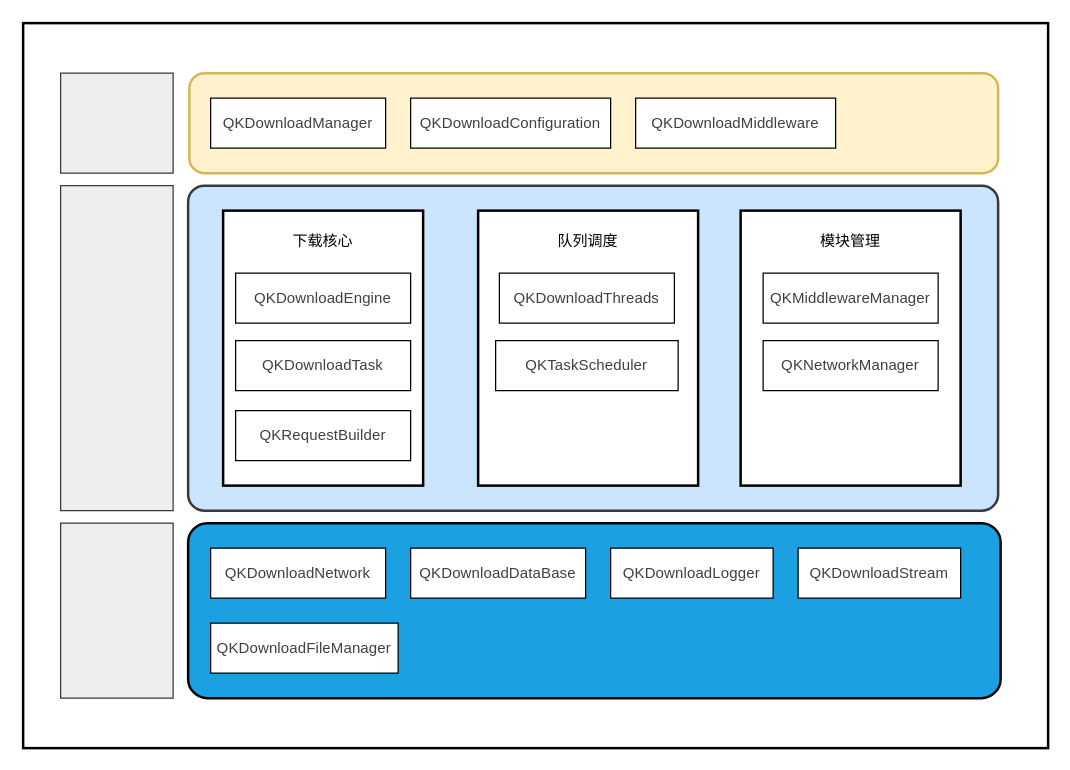
Image size: 1070x770. Some labels were removed from this diagram. Each missing label, with the centre of its shape:
"Base基础层" goes at (116,610).
"Core核心层" goes at (116,347).
"上层" goes at (116,122).
